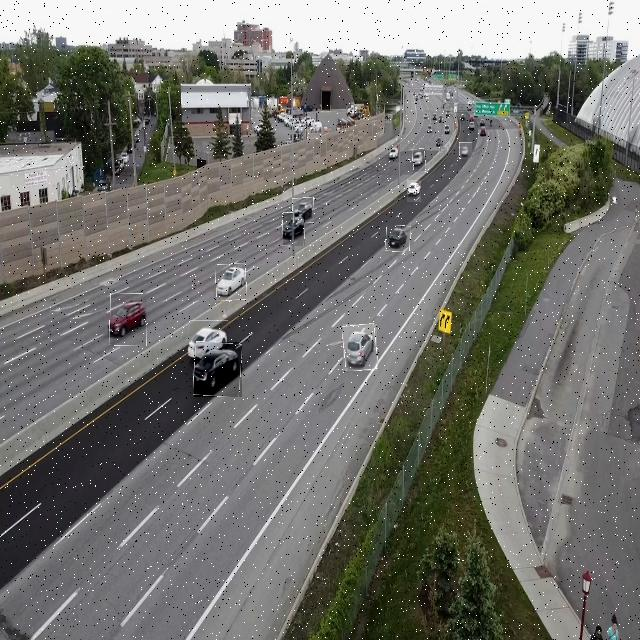Car: (194, 342, 242, 397), (110, 294, 147, 346), (343, 324, 377, 371), (190, 320, 228, 357), (216, 264, 247, 300), (283, 213, 305, 246), (386, 226, 410, 252), (293, 198, 314, 223), (407, 180, 421, 202), (413, 149, 426, 172), (459, 142, 472, 159), (388, 144, 400, 162)
